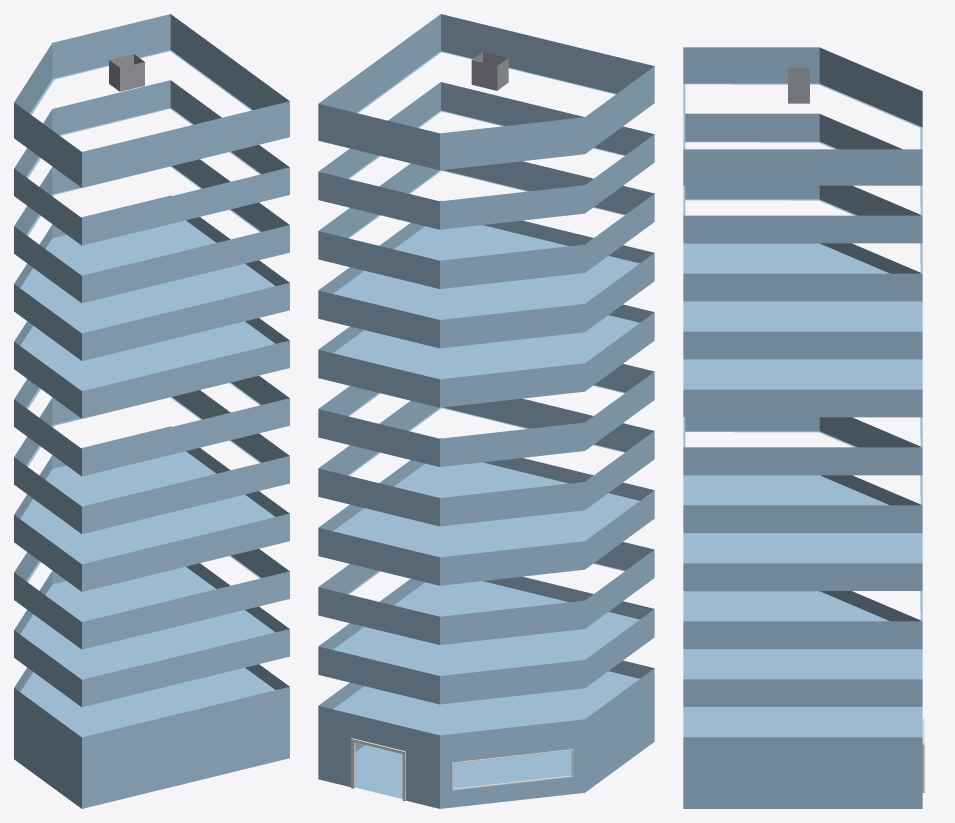
Rendered from Bld_O_high_L5_A.fbx.
3 views of the same model, side by side, from view 1: azimuth 30°, elevation 25°; view 2: azimuth 150°, elevation 25°; view 3: azimuth 270°, elevation 25° (orthographic). The views are drawn at different scales.
Visible parts, largest first — view 1: Bld_O_high_L5_A_LOD0; view 2: Bld_O_high_L5_A_LOD0; view 3: Bld_O_high_L5_A_LOD0.
Part boxes in pixels (x1,y1,x2,y2): Bld_O_high_L5_A_LOD0: (14,14,289,808); Bld_O_high_L5_A_LOD0: (318,14,654,808); Bld_O_high_L5_A_LOD0: (683,47,924,808).
Size of what is drawn, in the model's own units: 2180 by 7130 by 2323.
Materials: 1 (1 with a texture image).
